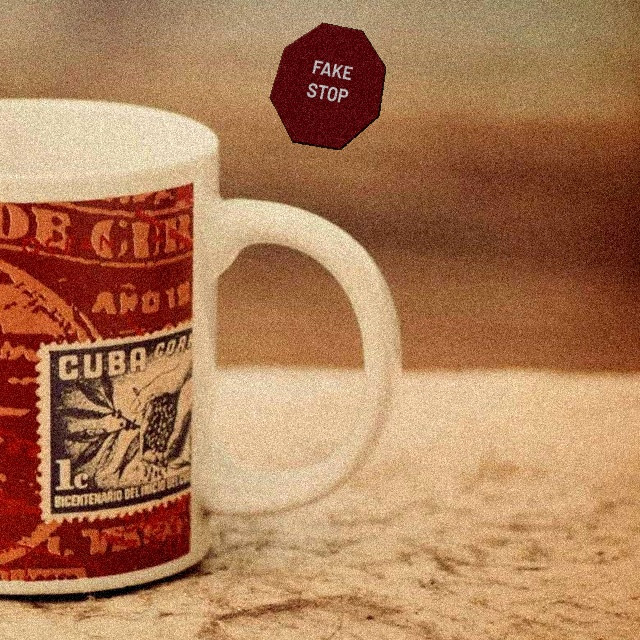FAKE_STOP: (269, 22, 386, 150)
